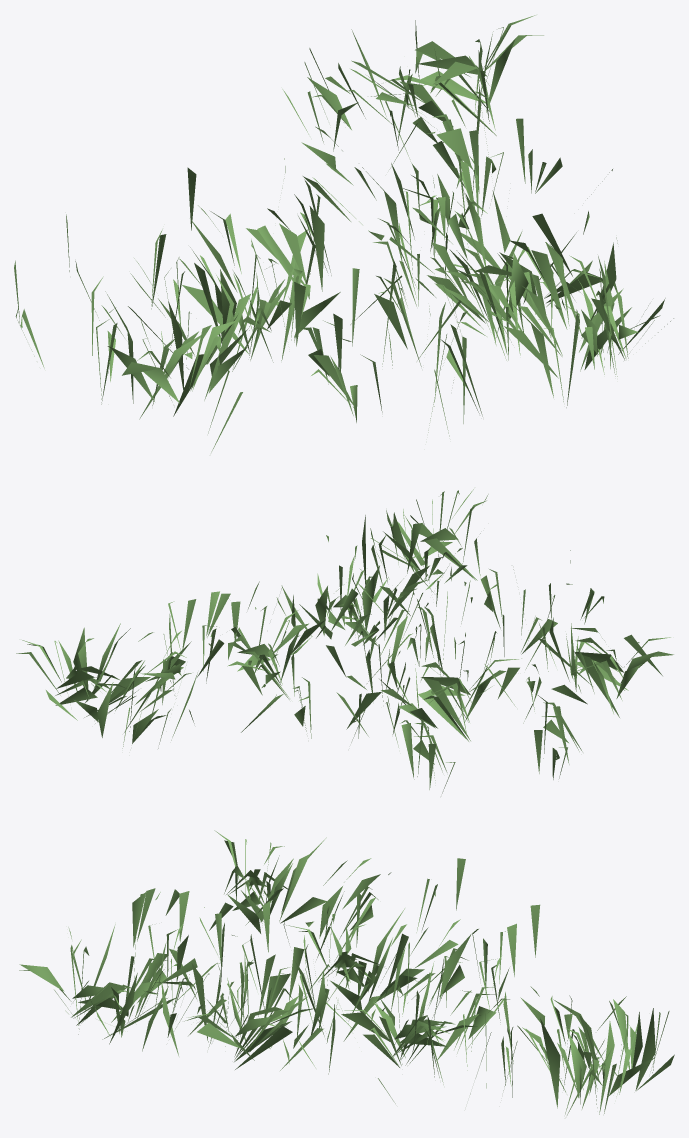
Rendered from grass_0.glb.
3 renders of one model, top to bottom at view 1: azimuth 30°, elevation 25°; view 2: azimuth 150°, elevation 25°; view 3: azimuth 270°, elevation 25°, orthographic. The views are drawn at different scales.
Visible parts, largest first — view 1: grass_0; view 2: grass_0; view 3: grass_0.
Boxes of the visible parts, box(x1,y1,x2,y2) form: grass_0: box(14, 15, 673, 452); grass_0: box(16, 489, 673, 793); grass_0: box(19, 830, 674, 1115).
Size of the model in its own units: 0.8784 by 0.241 by 0.9386.
